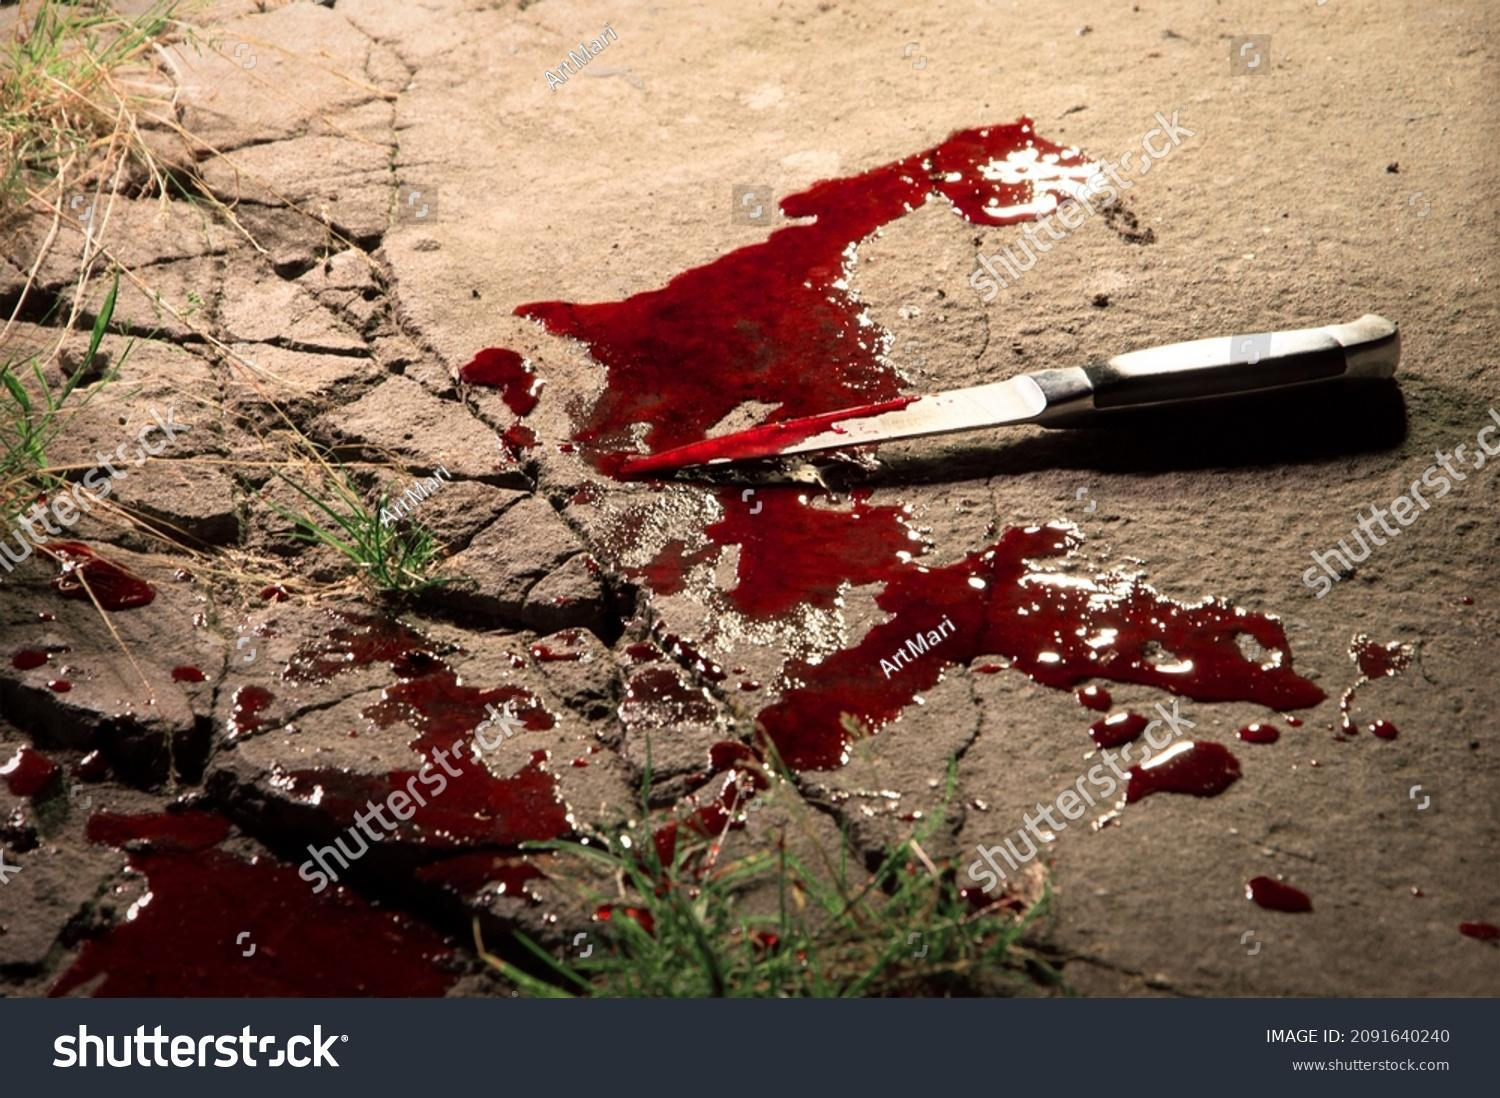Fire: (517, 116, 1099, 474), (643, 487, 1328, 770), (50, 808, 454, 999), (968, 688, 1244, 893), (328, 670, 571, 865), (618, 660, 767, 863), (37, 541, 155, 647), (283, 610, 445, 682), (1332, 635, 1421, 744), (459, 347, 543, 459), (0, 746, 58, 801), (1352, 636, 1416, 685), (1247, 877, 1315, 914), (227, 686, 273, 737), (10, 647, 66, 671), (1239, 723, 1285, 744), (169, 664, 206, 683), (1370, 720, 1402, 742), (1220, 753, 1239, 789), (1411, 786, 1432, 810), (1287, 714, 1308, 729)
